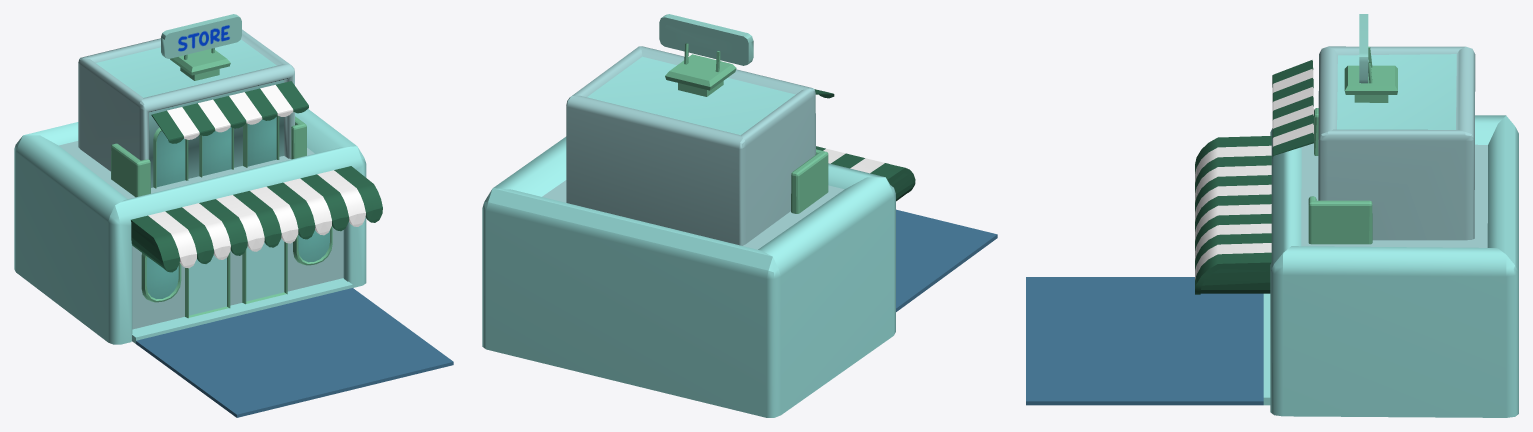
File: SM_Store1.fbx
3 views of the same model, side by side, from view 1: azimuth 30°, elevation 25°; view 2: azimuth 150°, elevation 25°; view 3: azimuth 270°, elevation 25° (orthographic). The views are drawn at different scales.
Visible parts, largest first — view 1: SM_Store1; view 2: SM_Store1; view 3: SM_Store1.
Boxes of the visible parts, x1,y1,x2,y2 form: SM_Store1: (14,14,453,417); SM_Store1: (482,14,997,417); SM_Store1: (1026,14,1518,417).
Size of the model in its own units: 931 by 903 by 1304.
